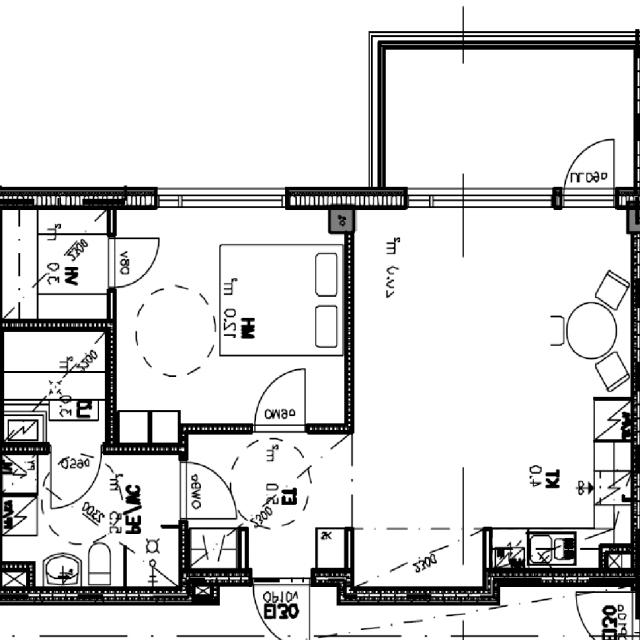door: (564, 130, 614, 210), (255, 577, 310, 640), (255, 368, 306, 432), (52, 444, 102, 508), (181, 462, 237, 519), (109, 238, 159, 287)
